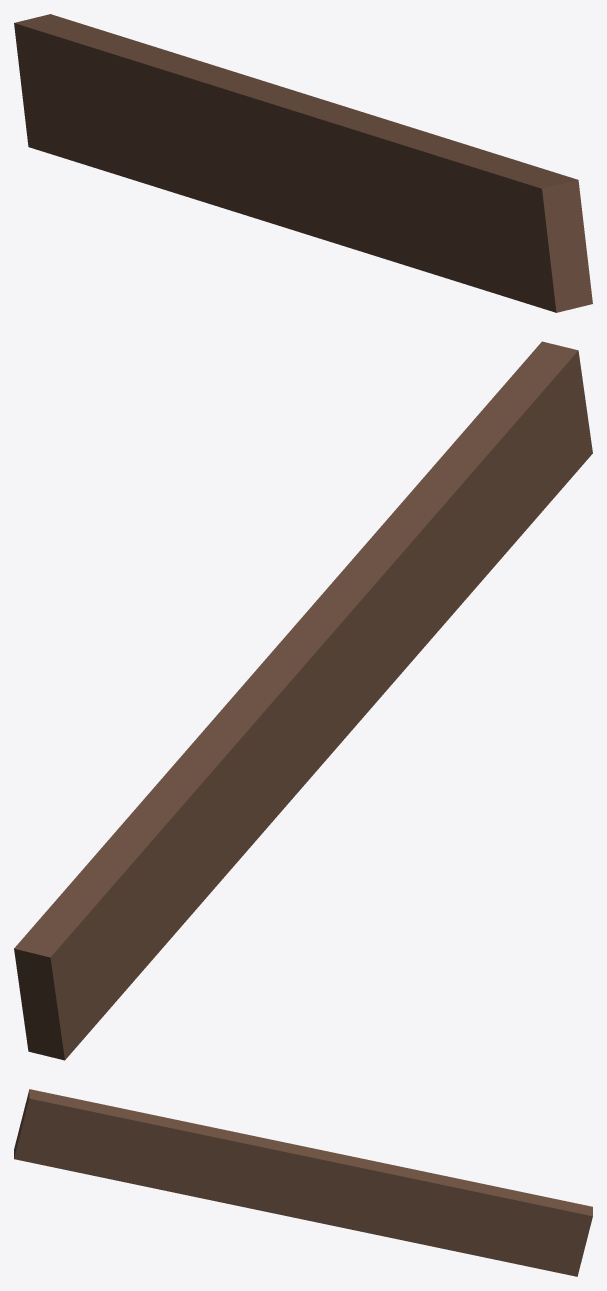
3 renders of one model, top to bottom at view 1: azimuth 30°, elevation 25°; view 2: azimuth 150°, elevation 25°; view 3: azimuth 270°, elevation 25°, orthographic. The views are drawn at different scales.
Parts seen in each view (by area): view 1: Cube.017; view 2: Cube.017; view 3: Cube.017.
Boxes of the visible parts, left/top/right/bottom form: Cube.017: left=14, top=14, right=592, bottom=312; Cube.017: left=14, top=341, right=592, bottom=1060; Cube.017: left=14, top=1089, right=592, bottom=1276.
Size of the model in its own units: 0.0392 by 0.3427 by 1.01.
